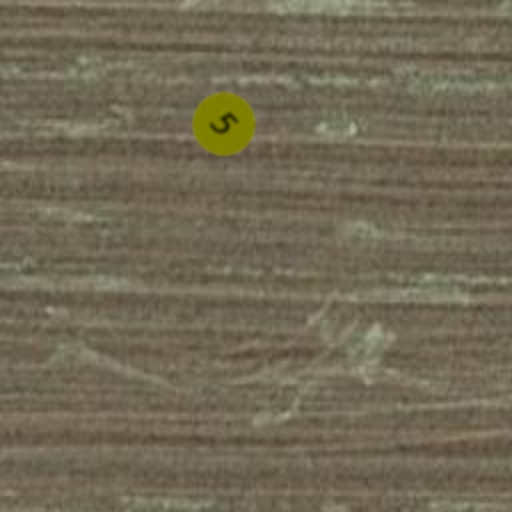circle: (178, 78, 270, 170)
